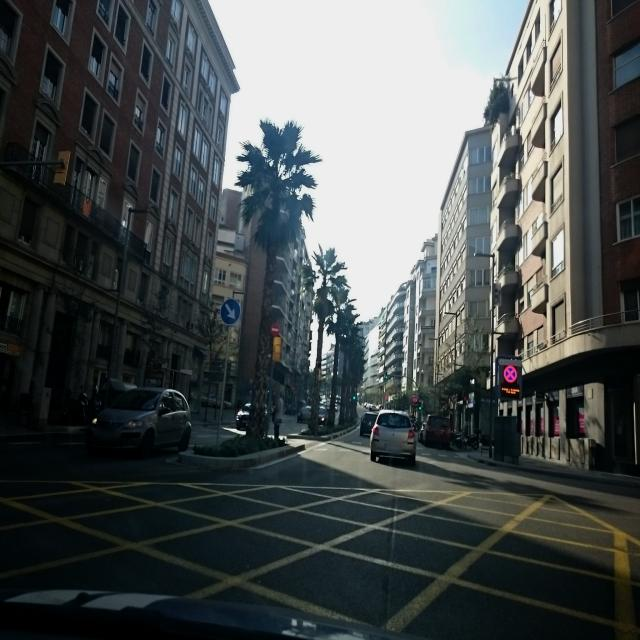bike: (456, 426, 482, 449)
car: (85, 386, 192, 458), (369, 410, 416, 465), (235, 401, 270, 430), (422, 414, 451, 448), (359, 412, 378, 437), (297, 405, 312, 423)
